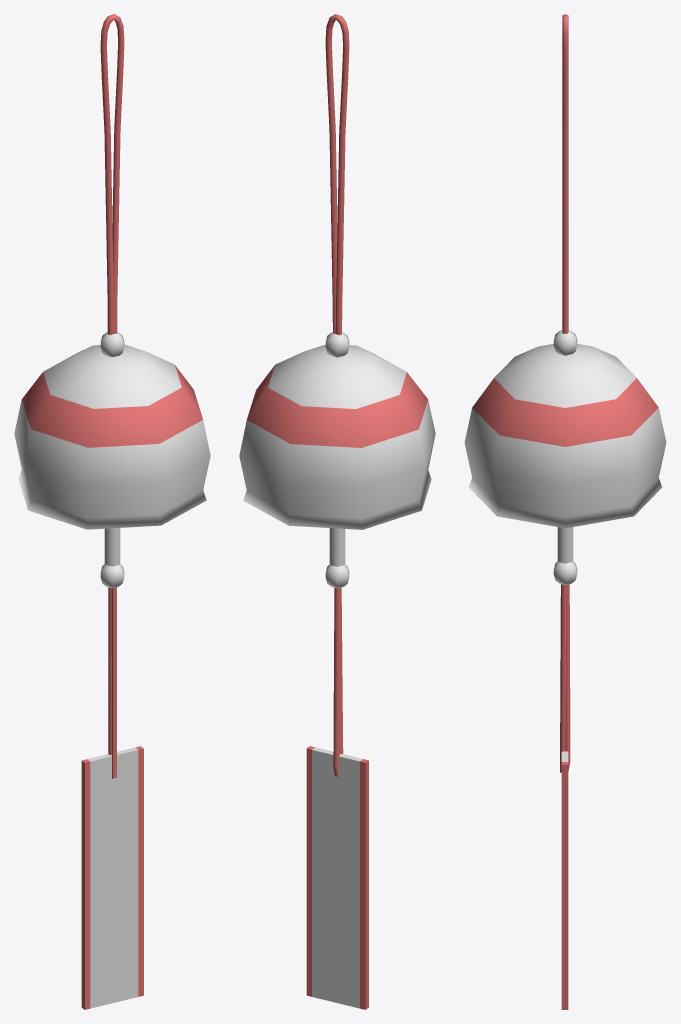
The model's file is windchime.fbx.
3 views of the same model, side by side, from view 1: azimuth 30°, elevation 25°; view 2: azimuth 150°, elevation 25°; view 3: azimuth 270°, elevation 25° (orthographic).
Visible parts, largest first — view 1: curve2; view 2: curve2; view 3: curve2.
Part boxes in pixels (box(x1,y1,x2,y2)): curve2: box(14, 14, 210, 1009); curve2: box(239, 14, 435, 1009); curve2: box(464, 14, 666, 1009).
Bounding box in the file's own units: 4.48 × 23.97 × 4.48.
